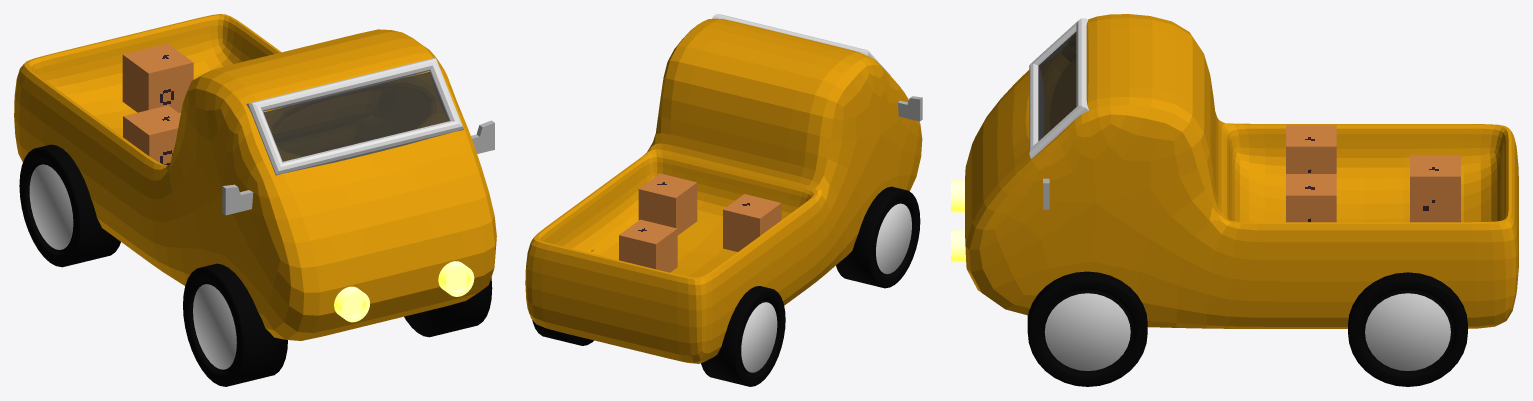
The model's file is car2.glb.
3 views of the same model, side by side, from view 1: azimuth 30°, elevation 25°; view 2: azimuth 150°, elevation 25°; view 3: azimuth 270°, elevation 25° (orthographic). The views are drawn at different scales.
Parts seen in each view (by area): view 1: 立方体, 柱体, 立方体.003, 柱体.001, 立方体.004, 立方体.006, 立方体.001, 立方体.007, 柱体.002, 柱体.003; view 2: 立方体, 柱体.001, 柱体, 立方体.005, 立方体.006, 立方体.001, 立方体.004, 立方体.007; view 3: 立方体, 柱体, 柱体.001, 立方体.006, 立方体.003, 立方体.004, 立方体.001, 立方体.005, 柱体.003.
Boxes of the visible parts, x1=… form: 立方体: x1=14, y1=14, x2=496, y2=340; 柱体: x1=183, y1=263, x2=492, y2=386; 立方体.003: x1=263, y1=71, x2=449, y2=161; 柱体.001: x1=19, y1=144, x2=120, y2=267; 立方体.004: x1=246, y1=57, x2=463, y2=175; 立方体.006: x1=122, y1=43, x2=193, y2=113; 立方体.001: x1=123, y1=105, x2=180, y2=165; 立方体.007: x1=222, y1=120, x2=494, y2=215; 柱体.002: x1=334, y1=286, x2=369, y2=322; 柱体.003: x1=438, y1=261, x2=474, y2=296; 立方体: x1=525, y1=18, x2=922, y2=363; 柱体.001: x1=532, y1=250, x2=785, y2=386; 柱体: x1=836, y1=186, x2=920, y2=288; 立方体.005: x1=638, y1=173, x2=697, y2=235; 立方体.006: x1=619, y1=219, x2=677, y2=272; 立方体.001: x1=723, y1=194, x2=781, y2=251; 立方体.004: x1=712, y1=14, x2=890, y2=75; 立方体.007: x1=898, y1=96, x2=922, y2=121; 立方体: x1=965, y1=14, x2=1518, y2=328; 柱体: x1=1027, y1=271, x2=1147, y2=386; 柱体.001: x1=1348, y1=272, x2=1467, y2=386; 立方体.006: x1=1410, y1=155, x2=1460, y2=222; 立方体.003: x1=1038, y1=32, x2=1076, y2=140; 立方体.004: x1=1029, y1=18, x2=1088, y2=158; 立方体.001: x1=1286, y1=125, x2=1336, y2=173; 立方体.005: x1=1286, y1=174, x2=1336, y2=222; 柱体.003: x1=951, y1=230, x2=965, y2=262.
Size of the model in its own units: 5.07 by 5 by 9.46.
10 materials, 3 textured.
